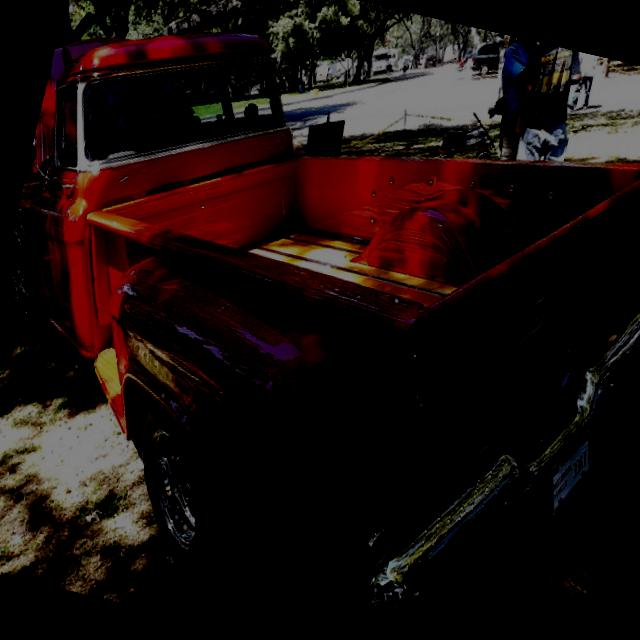Vehicle: (0, 0, 640, 640), (468, 38, 503, 79), (367, 45, 392, 79)
